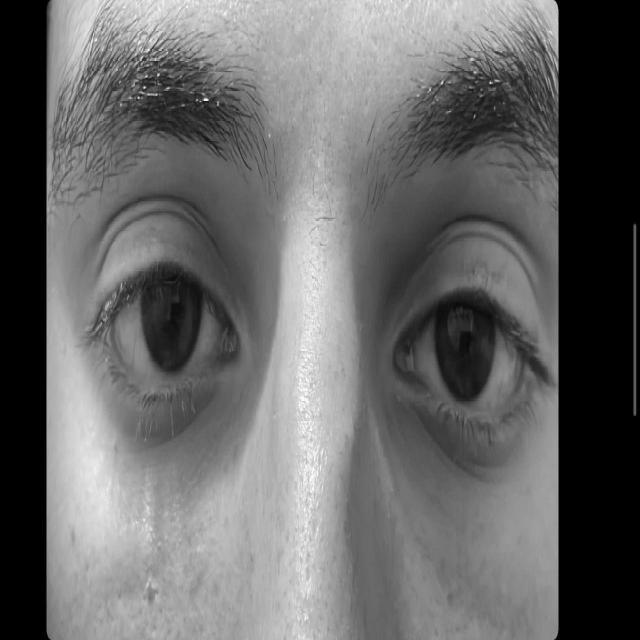real: (66, 112, 556, 514)
